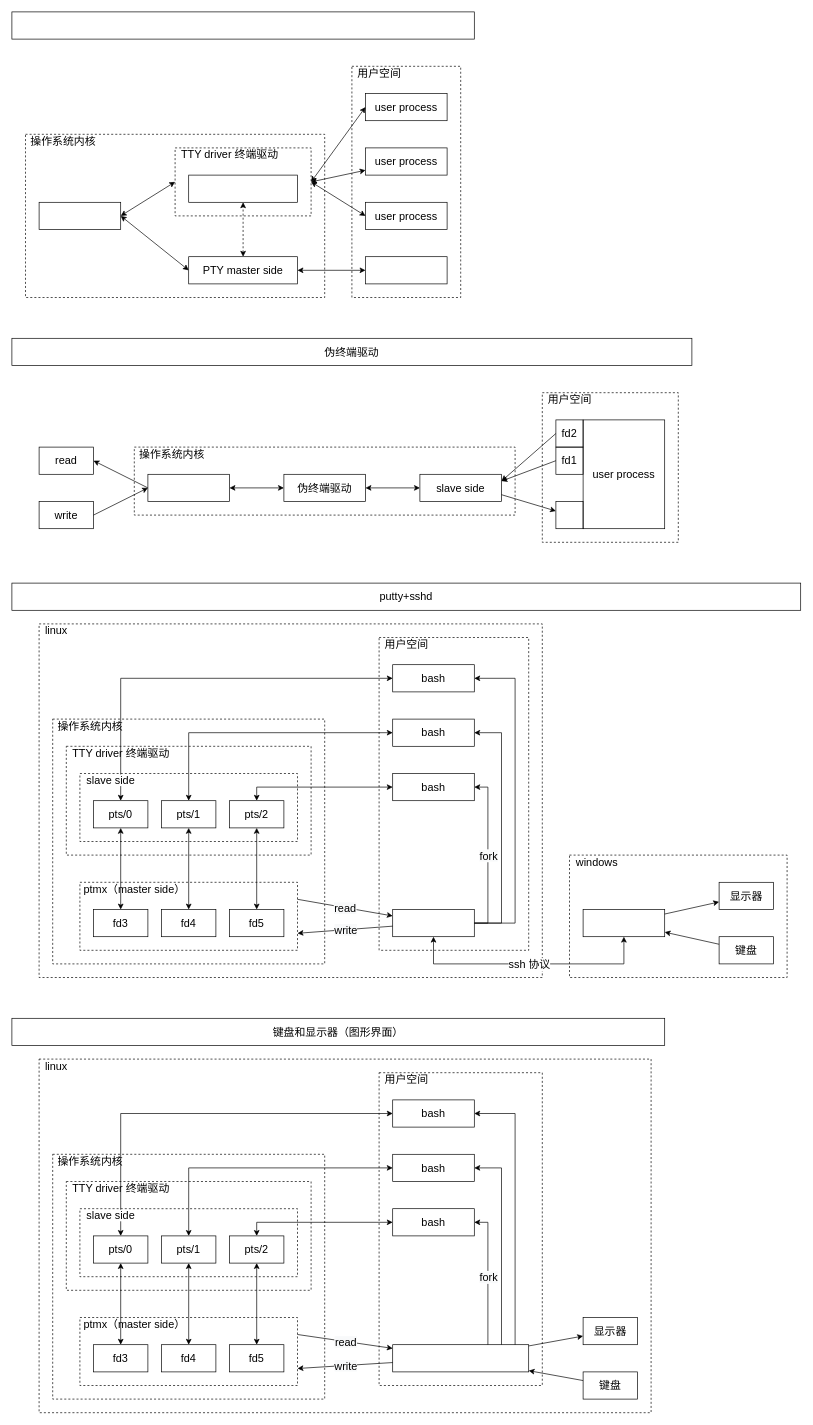
Some shapes in this 813 by 1425 pixel diagram are drawn without their labels. The box of each missing label's shape, as (x1, y1, x2, y2) in pixels:
fd0: (555, 501, 583, 529)
line discipline 行规范: (38, 202, 121, 230)
master side: (147, 474, 230, 502)
PTY slave side: (188, 174, 298, 202)
putty （虚拟终端）: (582, 909, 665, 937)
sshd (ssh server): (392, 909, 474, 937)
xterm: (11, 11, 474, 39)
xterm process 虚拟终端: (365, 256, 447, 284)
图形客户端: (392, 1344, 529, 1372)
